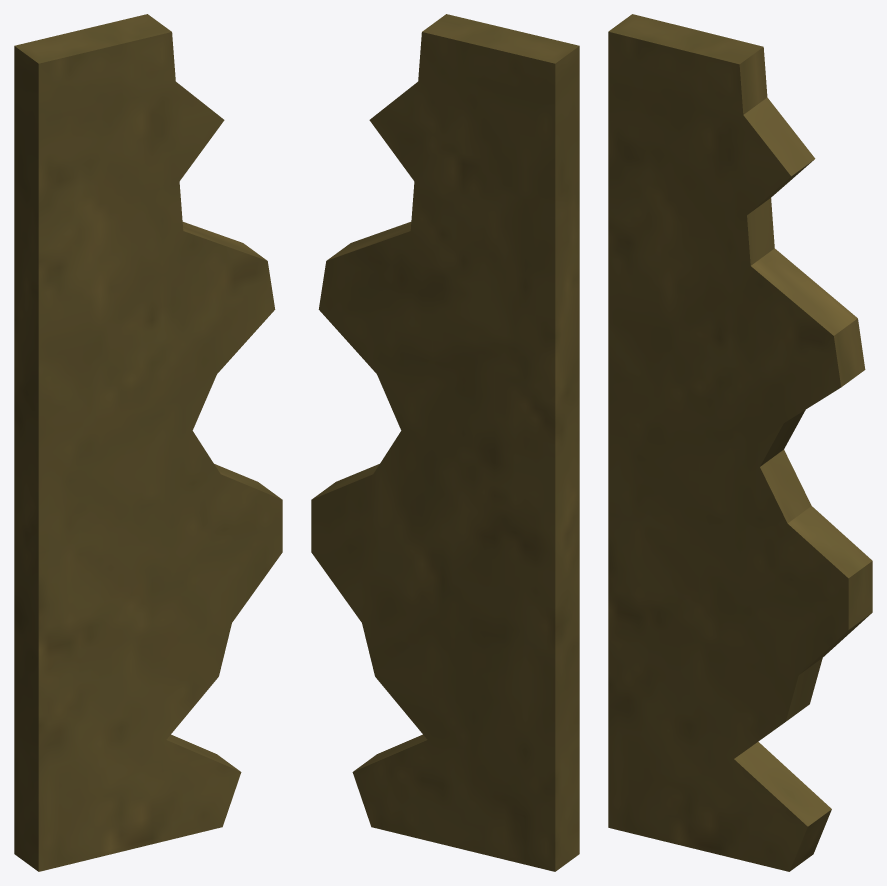
Rendered from Wall_4.fbx.
3 renders of one model, left to right at view 1: azimuth 30°, elevation 25°; view 2: azimuth 150°, elevation 25°; view 3: azimuth 330°, elevation 25°, orthographic.
Visible parts, largest first — view 1: Wall_4; view 2: Wall_4; view 3: Wall_4.
Part boxes in pixels (box(x1,y1,x2,y2)): Wall_4: box(14, 14, 282, 871); Wall_4: box(311, 14, 579, 871); Wall_4: box(608, 14, 872, 871).
Bounding box in the file's own units: 261 × 828 × 45.47.
1 material, 1 textured.
